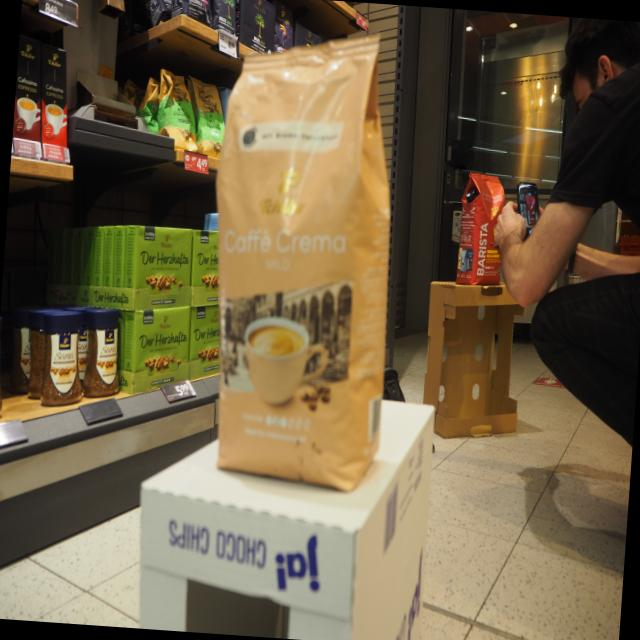CC Mild: (190, 17, 413, 500)
